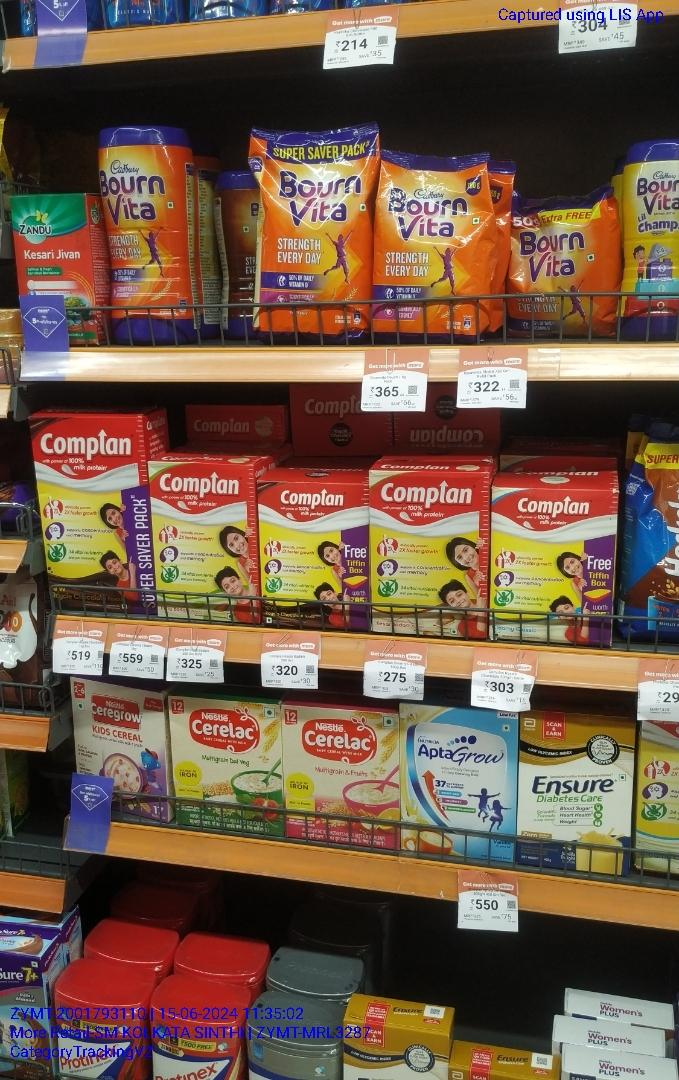BOURN_VITA_1_KG_JAR: (103, 126, 195, 344)
BOURN_VITA_1_KG_POUCH: (248, 127, 366, 340)
BOURN_VITA_750_G_POUCH: (373, 147, 495, 345)
BOURN_VITA_CHAMPS_500_G_JAR: (623, 138, 679, 346)
COMPLAN_CHOCOLATE_1_KG_PACK: (34, 414, 146, 613)
COMPLAN_CHOCOLATE_500_GMS_PACK: (258, 479, 367, 629)
COMPLAN_CREAMY_CLASSIC_500_G_PACK: (490, 485, 613, 644)
COMPLAN_KESAR_BADAM_500_GMS_PACK: (370, 469, 488, 633)
COMPLAN_PISTA_BADAM_500_GMS_PACK: (149, 464, 254, 622)
